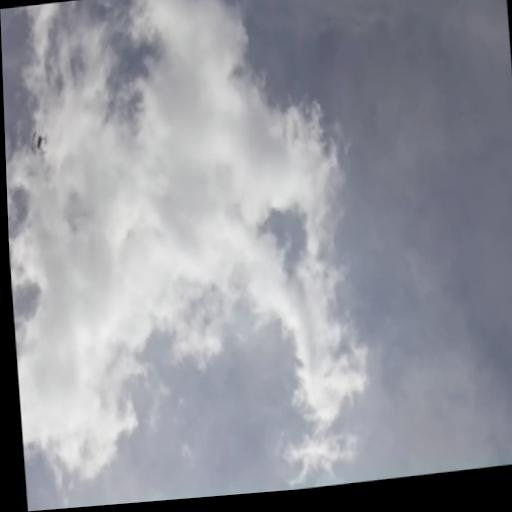drones: (24, 126, 51, 160)
